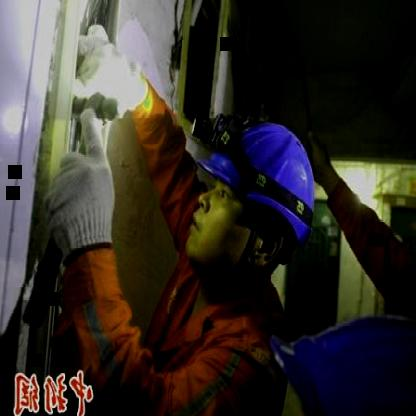helmet: (181, 118, 321, 288)
